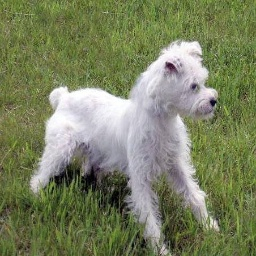dog: (25, 37, 225, 245)
